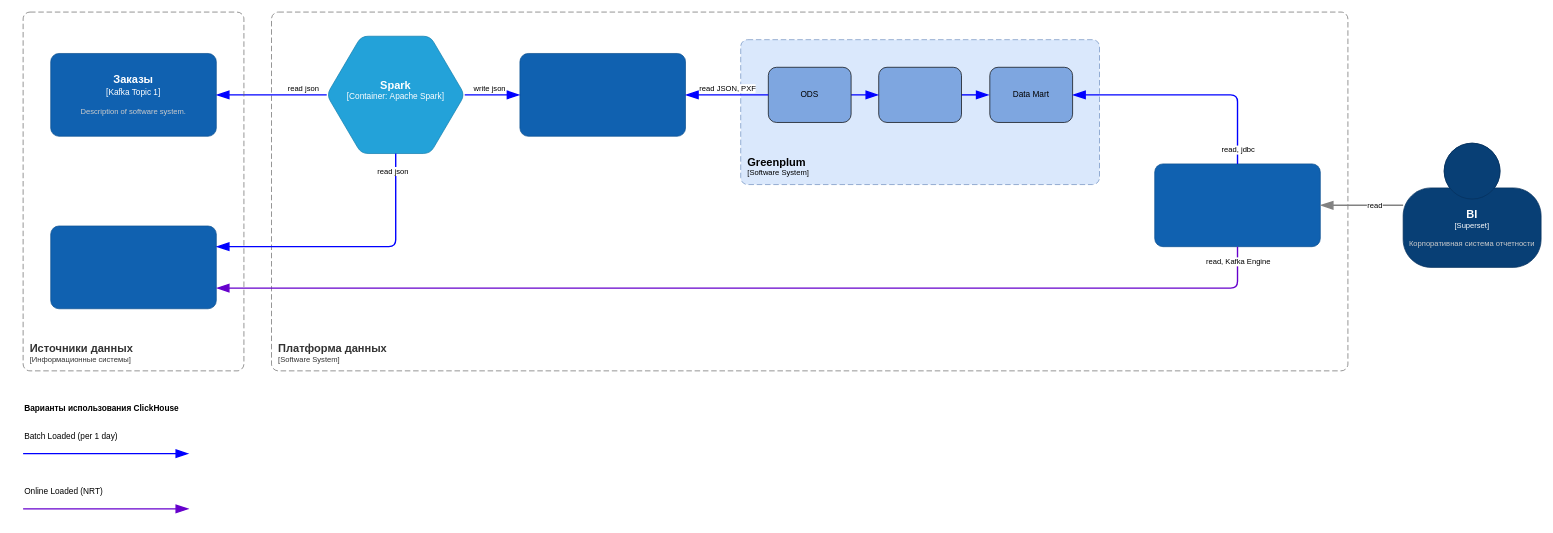
The diagram is 1553 pixels wide and 533 high, and some of its shapes have lost their labels. Here are the shapes that lost their labels. From the top down, the centre of each, then its label:
At pixel 602 94: "S3 [Software System] Description of software system.".
At pixel 920 94: "DDS".
At pixel 1237 205: "ClickHouse [Software System] Витрины для системы отчетности".
At pixel 133 267: "Клиентские события [Kafka Topic 2] Description of software system.".
